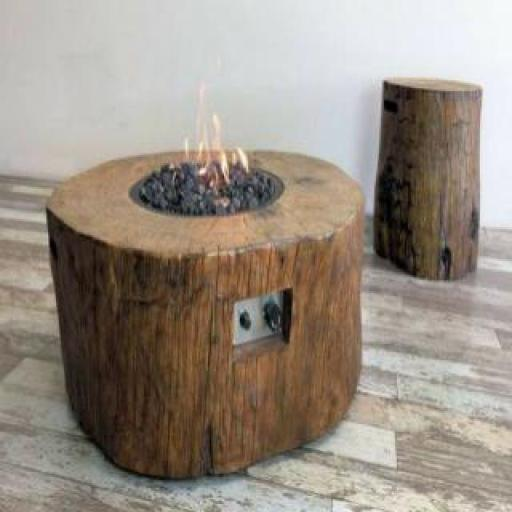smoke: (171, 96, 256, 190)
